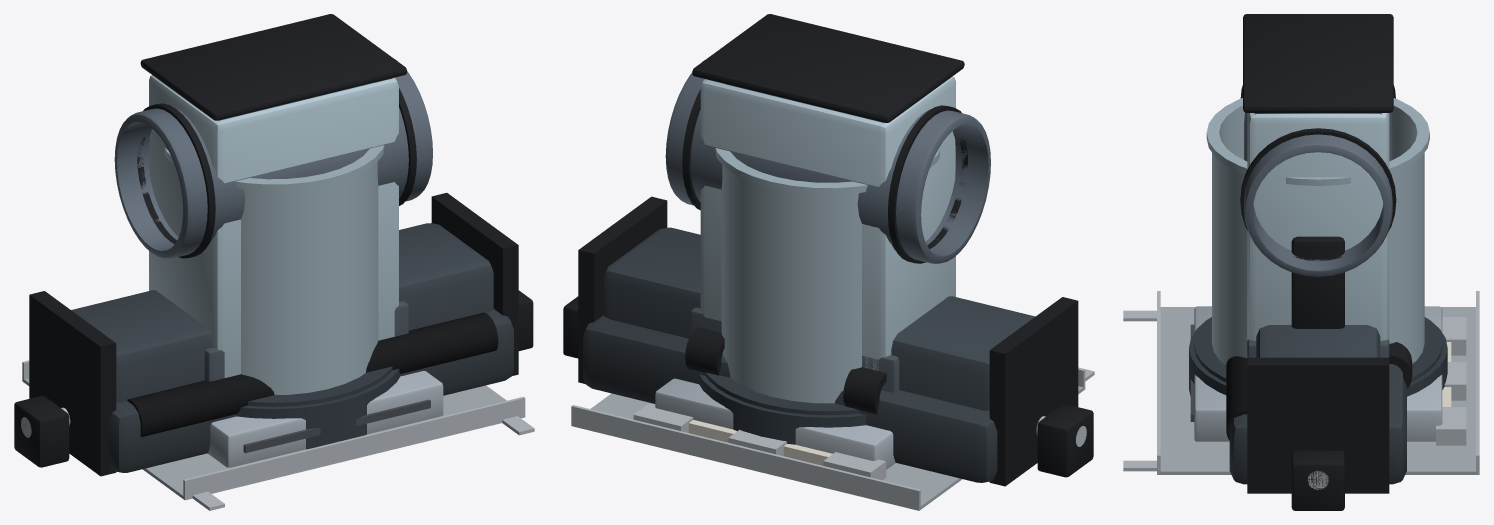
Rendered from dispositivos.glb.
3 renders of one model, left to right at view 1: azimuth 30°, elevation 25°; view 2: azimuth 150°, elevation 25°; view 3: azimuth 270°, elevation 25°, orthographic. The views are drawn at different scales.
Parts seen in each view (by area): view 1: deposito_polvo__cuerpo, deposito_agua__cuerpo, cartucho_toner__cuerpo, deposito_agua__plastico, cartucho_toner__plastico, carcasa_secador__cuerpo, cartucho_toner__goma, blindaje_metalico__metal, boquilla_suelo__cuerpo, unidad_optica__cuerpo, difusor_secador__cuerpo, riel_lineal__plastico (+4 smaller); view 2: deposito_polvo__cuerpo, deposito_agua__cuerpo, cartucho_toner__cuerpo, deposito_agua__plastico, cartucho_toner__plastico, carcasa_secador__cuerpo, boquilla_suelo__cuerpo, blindaje_metalico__metal, difusor_secador__cuerpo, unidad_optica__cuerpo, riel_lineal__plastico, carcasa_secador__plastico (+5 smaller); view 3: deposito_agua__cuerpo, deposito_polvo__cuerpo, cartucho_toner__plastico, deposito_agua__plastico, blindaje_metalico__cuerpo, carcasa_secador__cuerpo, unidad_optica__cuerpo, deposito_polvo__plastico, cartucho_toner__cuerpo, difusor_secador__cuerpo, boquilla_suelo__cuerpo, riel_lineal__plastico (+5 smaller).
Part boxes in pixels (x1,y1,x2,y2): deposito_polvo__cuerpo: (164,145,384,394); deposito_agua__cuerpo: (149,75,398,377); cartucho_toner__cuerpo: (71,223,493,402); deposito_agua__plastico: (140,14,407,120); cartucho_toner__plastico: (29,193,518,476); carcasa_secador__cuerpo: (114,59,432,258); cartucho_toner__goma: (127,312,498,437); blindaje_metalico__metal: (22,360,534,510); boquilla_suelo__cuerpo: (108,309,513,472); unidad_optica__cuerpo: (208,371,443,467); difusor_secador__cuerpo: (236,366,400,449); riel_lineal__plastico: (14,290,533,467); deposito_polvo__cuerpo: (715,148,939,403); deposito_agua__cuerpo: (700,76,955,370); cartucho_toner__cuerpo: (604,227,1035,410); deposito_agua__plastico: (692,14,964,122); cartucho_toner__plastico: (578,196,1078,486); carcasa_secador__cuerpo: (665,60,990,263); boquilla_suelo__cuerpo: (583,315,997,482); blindaje_metalico__metal: (571,367,1094,510); difusor_secador__cuerpo: (699,372,866,444); unidad_optica__cuerpo: (655,378,895,469); riel_lineal__plastico: (563,296,1093,477); carcasa_secador__plastico: (682,89,967,263); deposito_agua__cuerpo: (1247,113,1389,340); deposito_polvo__cuerpo: (1206,98,1429,365); cartucho_toner__plastico: (1247,357,1389,493); deposito_agua__plastico: (1243,14,1393,112); blindaje_metalico__cuerpo: (1159,307,1477,474); carcasa_secador__cuerpo: (1244,112,1392,276); unidad_optica__cuerpo: (1194,306,1442,441); deposito_polvo__plastico: (1291,236,1344,328); cartucho_toner__cuerpo: (1256,325,1380,357); difusor_secador__cuerpo: (1189,317,1447,396); boquilla_suelo__cuerpo: (1229,363,1406,484); riel_lineal__plastico: (1291,450,1344,510).
Size of the model in its own units: 32 by 23.1 by 20.1.
